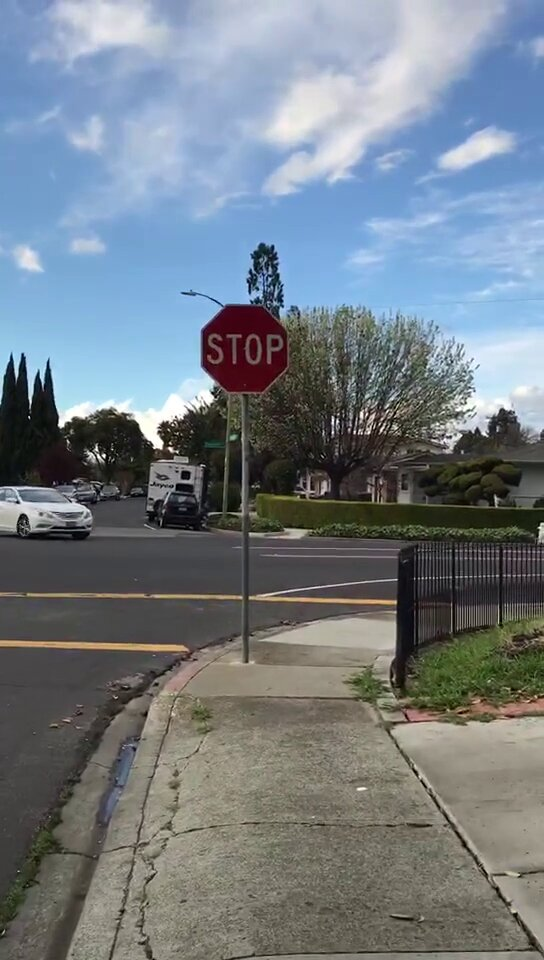stop_sign: (201, 308, 287, 392)
